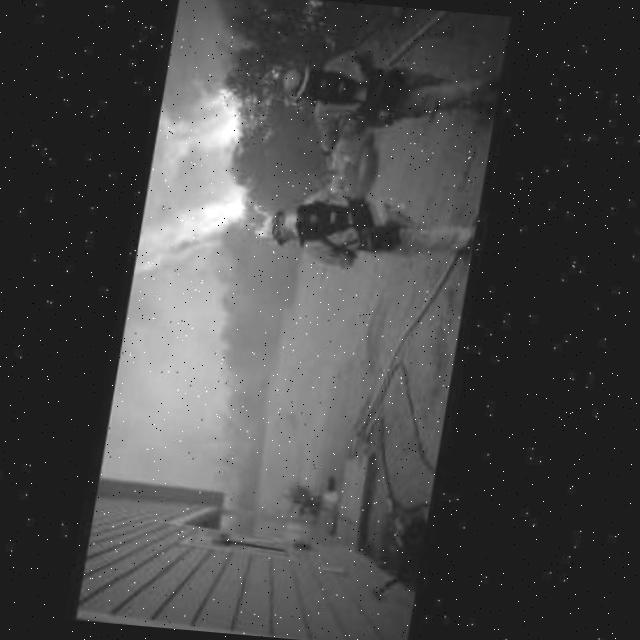fire: (130, 151, 286, 303), (155, 52, 285, 180)
